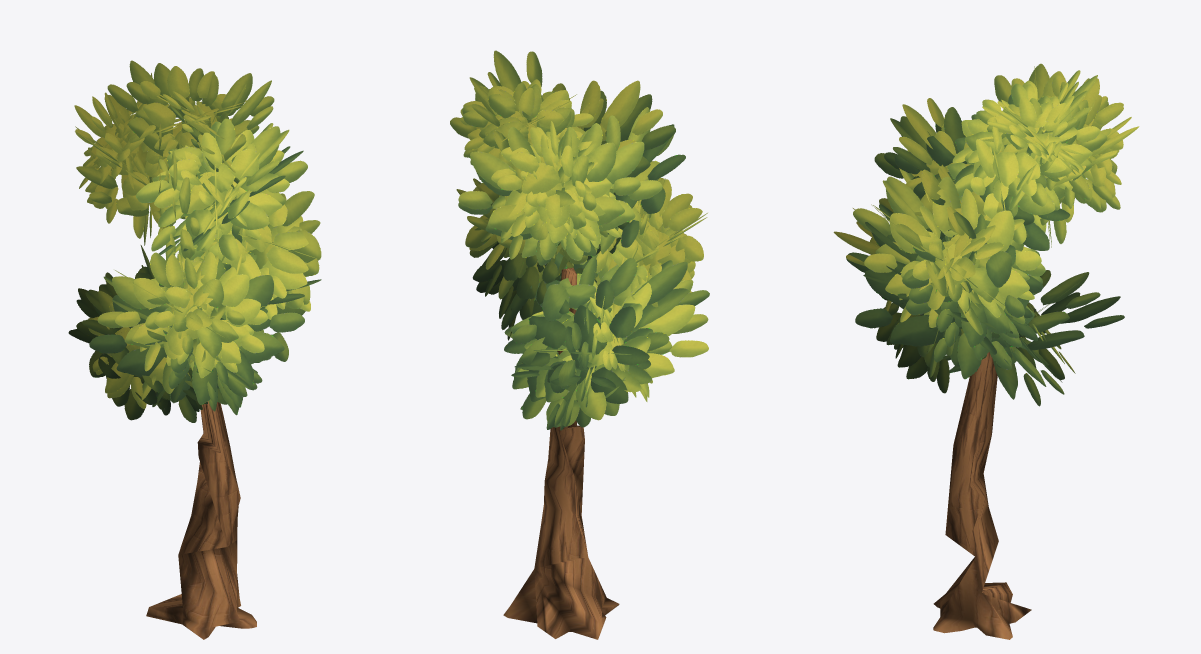
The model's file is tree_sapling_far.glb.
3 renders of one model, left to right at view 1: azimuth 30°, elevation 25°; view 2: azimuth 150°, elevation 25°; view 3: azimuth 270°, elevation 25°, orthographic. The views are drawn at different scales.
Visible parts, largest first — view 1: Canopy, tree_sapling_far; view 2: Canopy, tree_sapling_far; view 3: Canopy, tree_sapling_far.
Boxes of the visible parts, x1,y1,x2,y2 form: Canopy: (68,60,321,422); tree_sapling_far: (146,401,256,639); Canopy: (450,50,709,430); tree_sapling_far: (503,267,619,639); Canopy: (833,63,1139,406); tree_sapling_far: (933,352,1031,639).
Bounding box in the file's own units: 0.7779 × 1.34 × 0.8719.
Materials: 2 (2 with a texture image).
